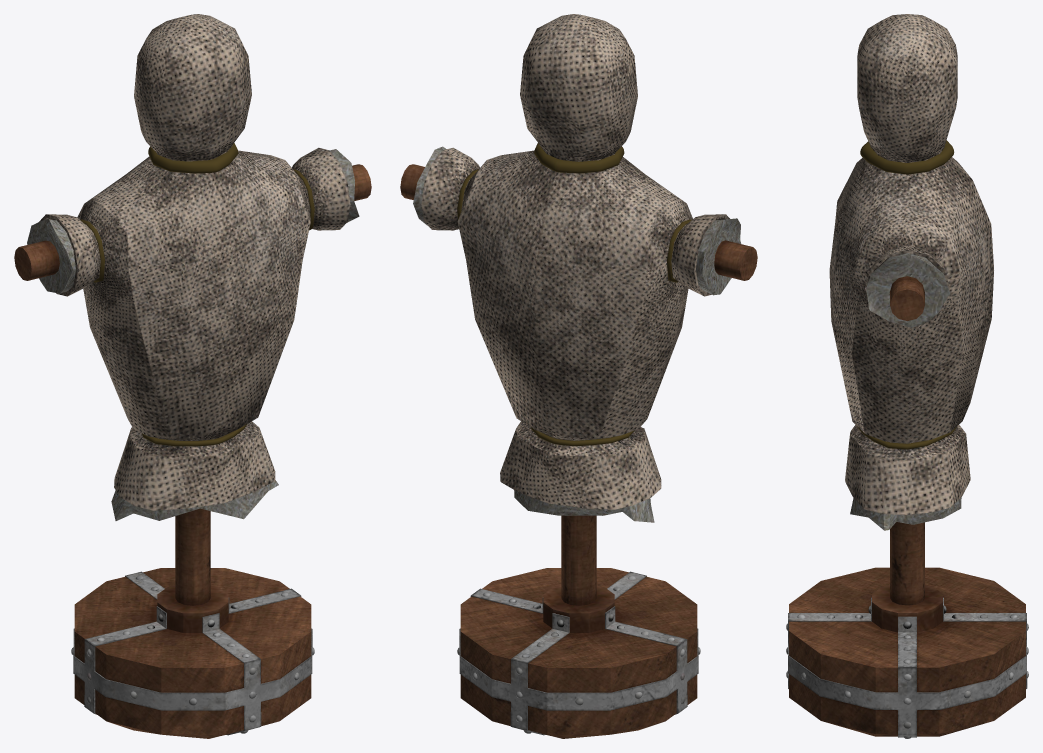
Rendered from medieval_combat_dummy.glb.
The picture shows the model from 3 angles, left to right: view 1: azimuth 30°, elevation 25°; view 2: azimuth 150°, elevation 25°; view 3: azimuth 270°, elevation 25°; orthographic projection.
Parts seen in each view (by area): view 1: dummy_0; view 2: dummy_0; view 3: dummy_0.
Part boxes in pixels (x1=…): dummy_0: x1=14, y1=14, x2=371, y2=738; dummy_0: x1=400, y1=14, x2=757, y2=738; dummy_0: x1=786, y1=14, x2=1028, y2=738.
Bounding box in the file's own units: 2.24 × 4.42 × 1.39.
Materials: 1 (1 with a texture image).
